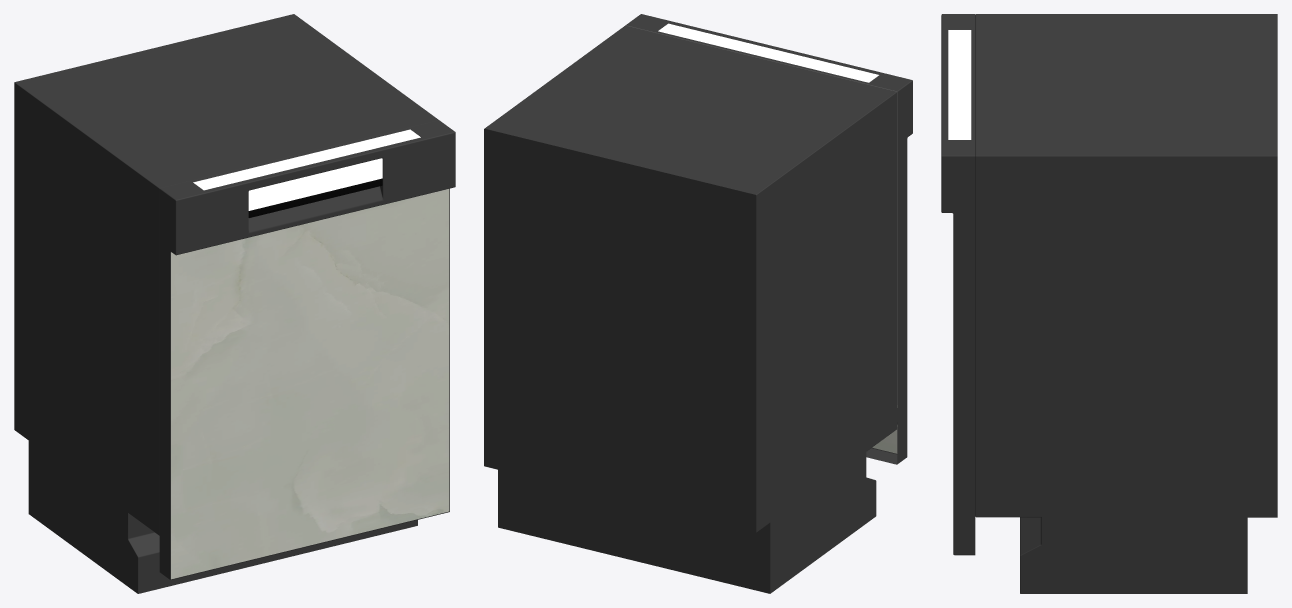
The model's file is dishwasher_semi.glb.
The picture shows the model from 3 angles, left to right: view 1: azimuth 30°, elevation 25°; view 2: azimuth 150°, elevation 25°; view 3: azimuth 270°, elevation 25°; orthographic projection. The views are drawn at different scales.
Parts seen in each view (by area): view 1: Bosch_Dishwasher_3_Door; view 2: Bosch_Dishwasher_3_Door; view 3: Bosch_Dishwasher_3_Door.
Part boxes in pixels (x1,y1,x2,y2): Bosch_Dishwasher_3_Door: [14, 14, 455, 593]; Bosch_Dishwasher_3_Door: [484, 14, 912, 593]; Bosch_Dishwasher_3_Door: [941, 14, 1277, 593].
Size of the model in its own units: 0.598 by 0.8593 by 0.5972.
3 materials, 3 textured.
